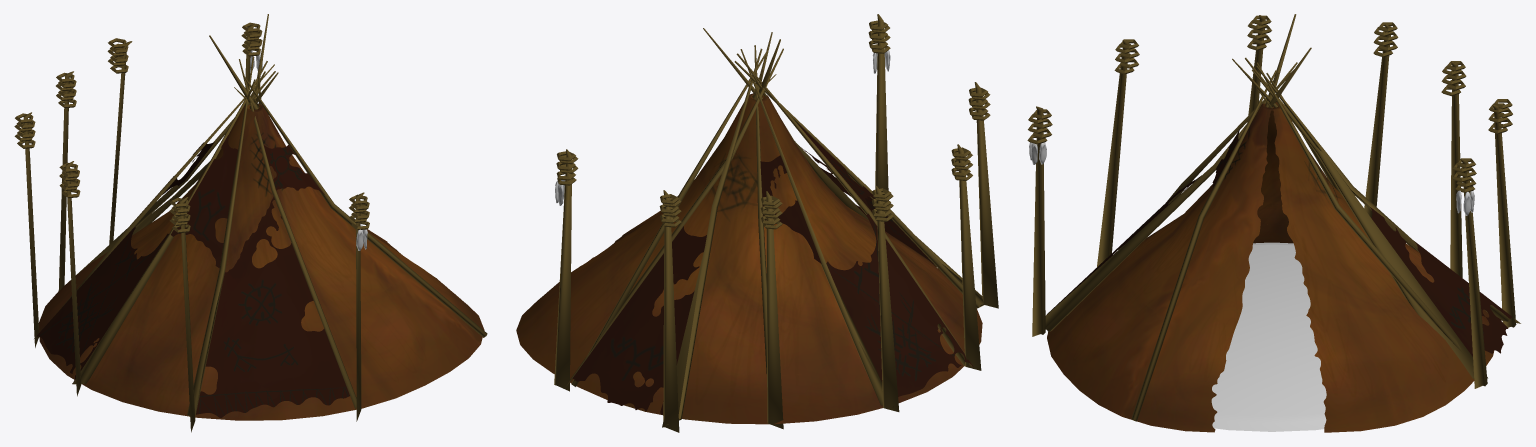
Rendered from chum.fbx.
3 views of the same model, side by side, from view 1: azimuth 30°, elevation 25°; view 2: azimuth 150°, elevation 25°; view 3: azimuth 270°, elevation 25° (orthographic). The views are drawn at different scales.
Visible parts, largest first — view 1: Chum; view 2: Chum; view 3: Chum.
Part boxes in pixels (x1,y1,x2,y2): Chum: [14, 14, 487, 432]; Chum: [516, 14, 998, 432]; Chum: [1027, 14, 1520, 432].
Bounding box in the file's own units: 298 × 226 × 319.
